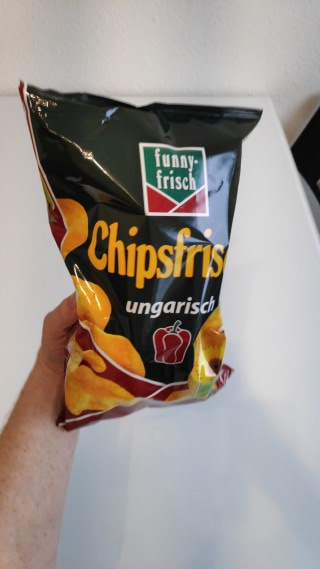chipsfrisch: (17, 77, 264, 432)
